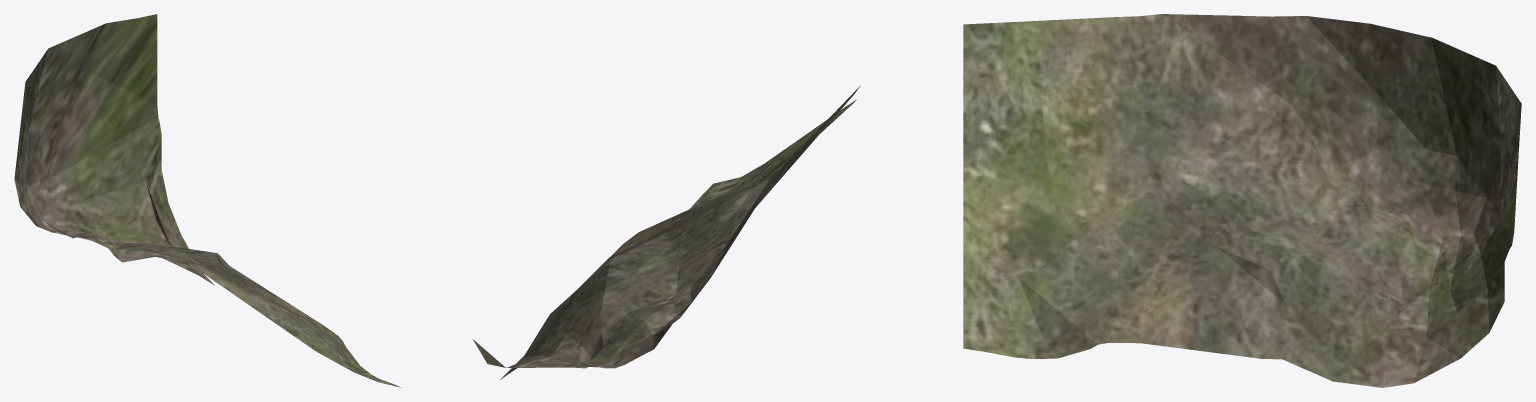
The picture shows the model from 3 angles, left to right: view 1: azimuth 30°, elevation 25°; view 2: azimuth 150°, elevation 25°; view 3: azimuth 270°, elevation 25°; orthographic projection. The views are drawn at different scales.
Bounding box in the file's own units: 1.37 × 1.42 × 2.78.
Materials: 2 (2 with a texture image).
